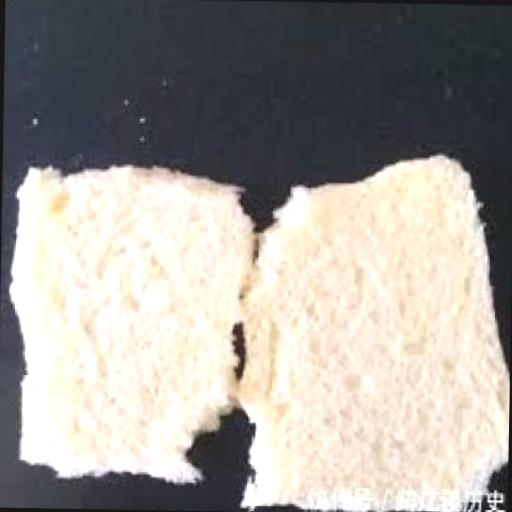biodegradable: (234, 146, 511, 512), (4, 159, 256, 483)
